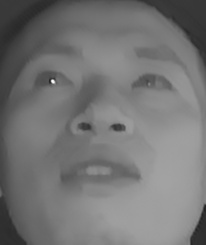eye: (30, 67, 82, 97), (129, 67, 177, 97)
mouth: (62, 144, 143, 198)
